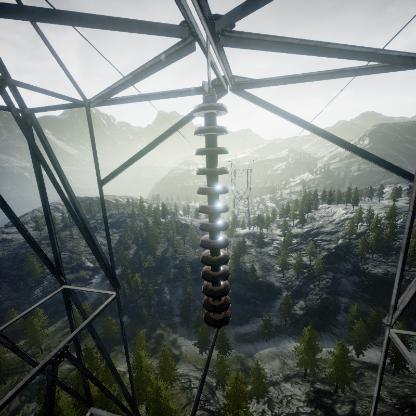insulator: (191, 90, 234, 328)
